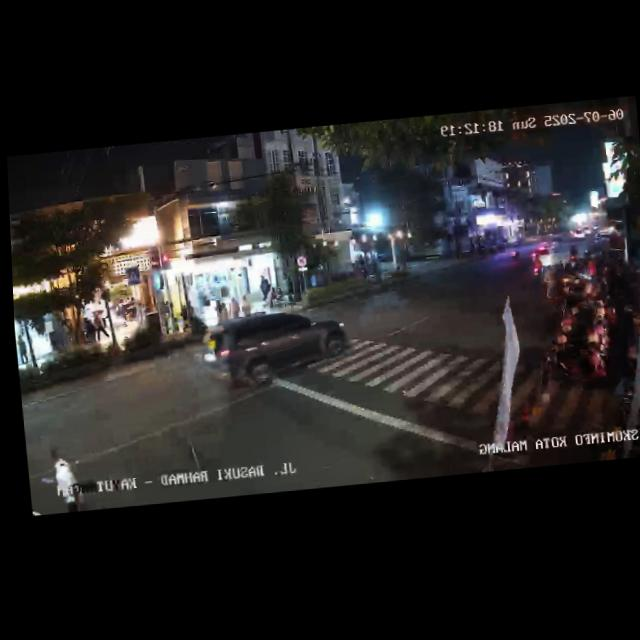car: (209, 303, 353, 391)
motorcycle: (529, 250, 546, 282)
person: (41, 444, 83, 514), (15, 331, 30, 369), (82, 315, 97, 346), (94, 315, 107, 346), (260, 276, 271, 303), (230, 293, 241, 319), (240, 292, 251, 316), (215, 296, 225, 322)
